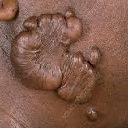Keloids: (17, 12, 100, 102)
